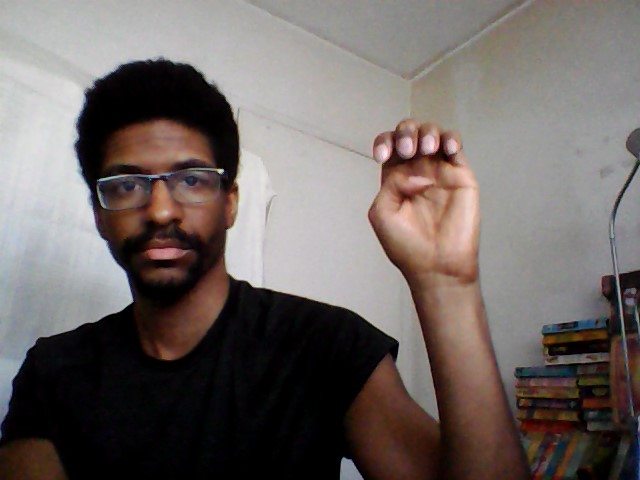e: (363, 116, 489, 288)
